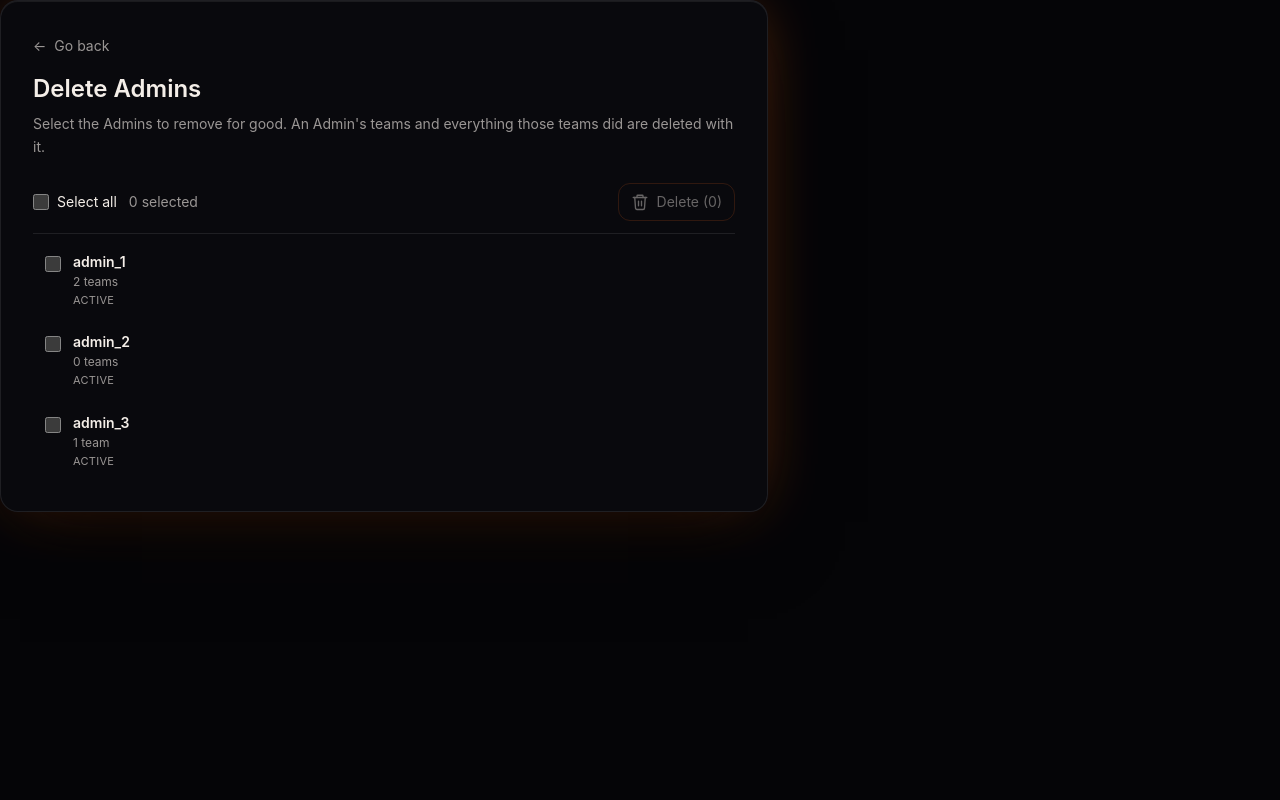
Test: <DeletionScreen kind='admins' /> › the trash button opens the confirmation with the exact wording (singular and plural) and sends nothing
Click the checkbox named "Select admin_1".
click(53, 264)  # box [45,256,61,272]
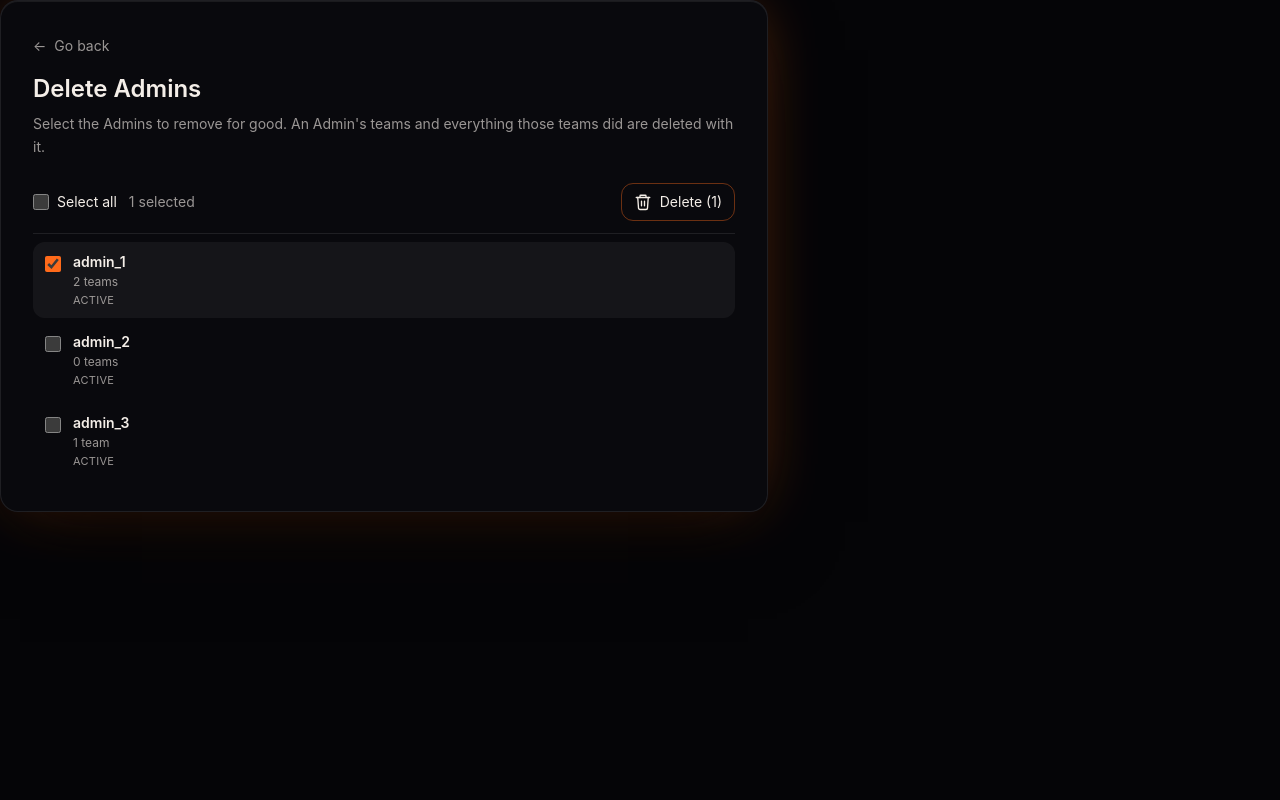
Click the button with aria-label "Delete selected".
click(678, 202)  # box [621,182,735,220]
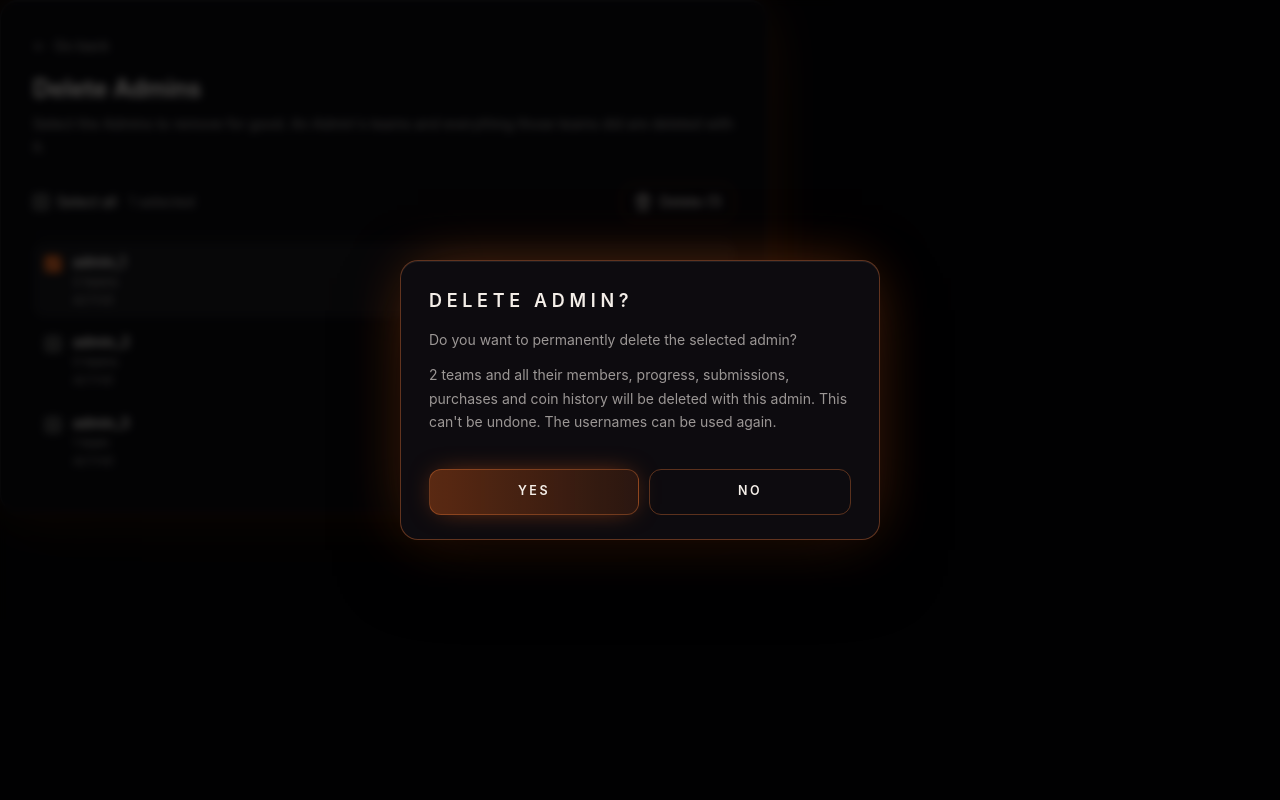
Check: the text "Do you want to permanently delete the selected admin?" is shown, box [429,328,851,351]
Check: the text "2 teams and all their members" is shown, box [429,366,847,430]
Check: the button "Yes" is shown, box [429,469,639,515]
Click the button "No".
click(750, 492)  # box [649,469,851,515]
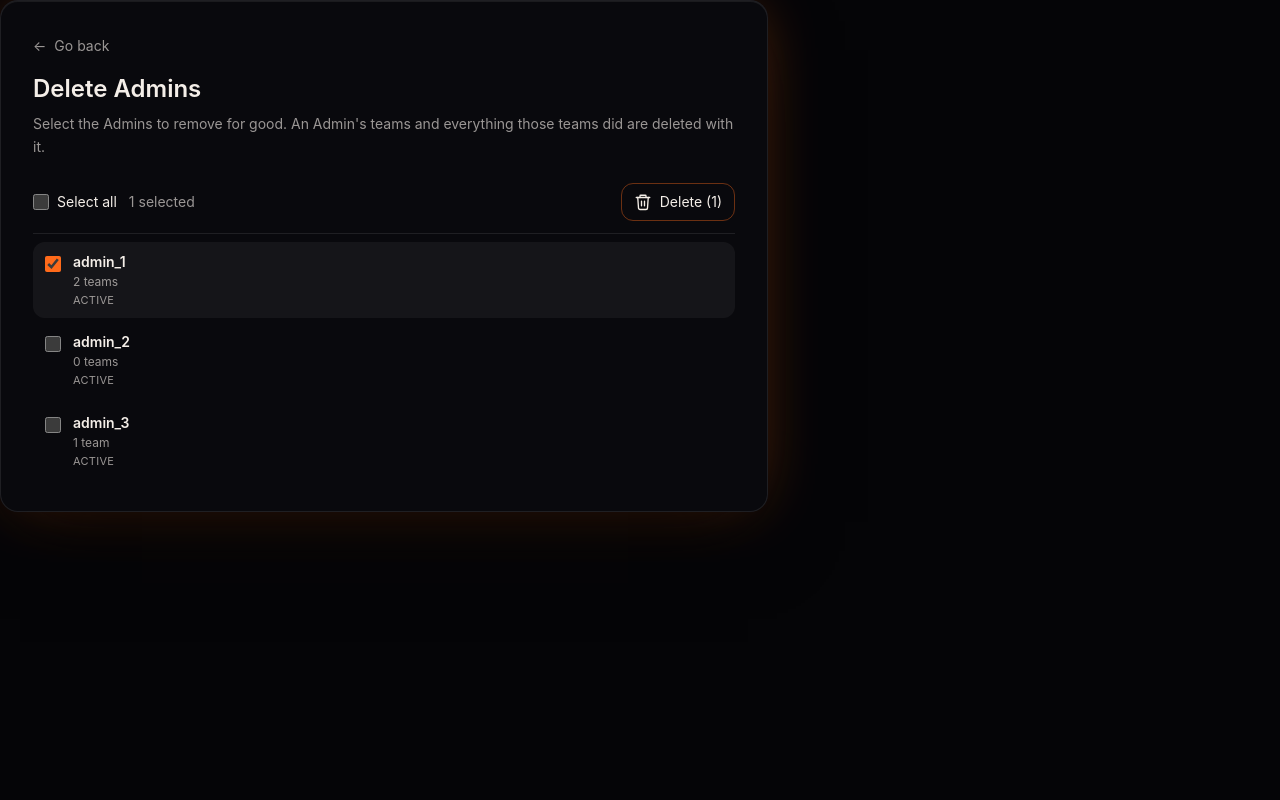
Click the checkbox named "Select admin_2".
click(53, 344)  # box [45,336,61,352]
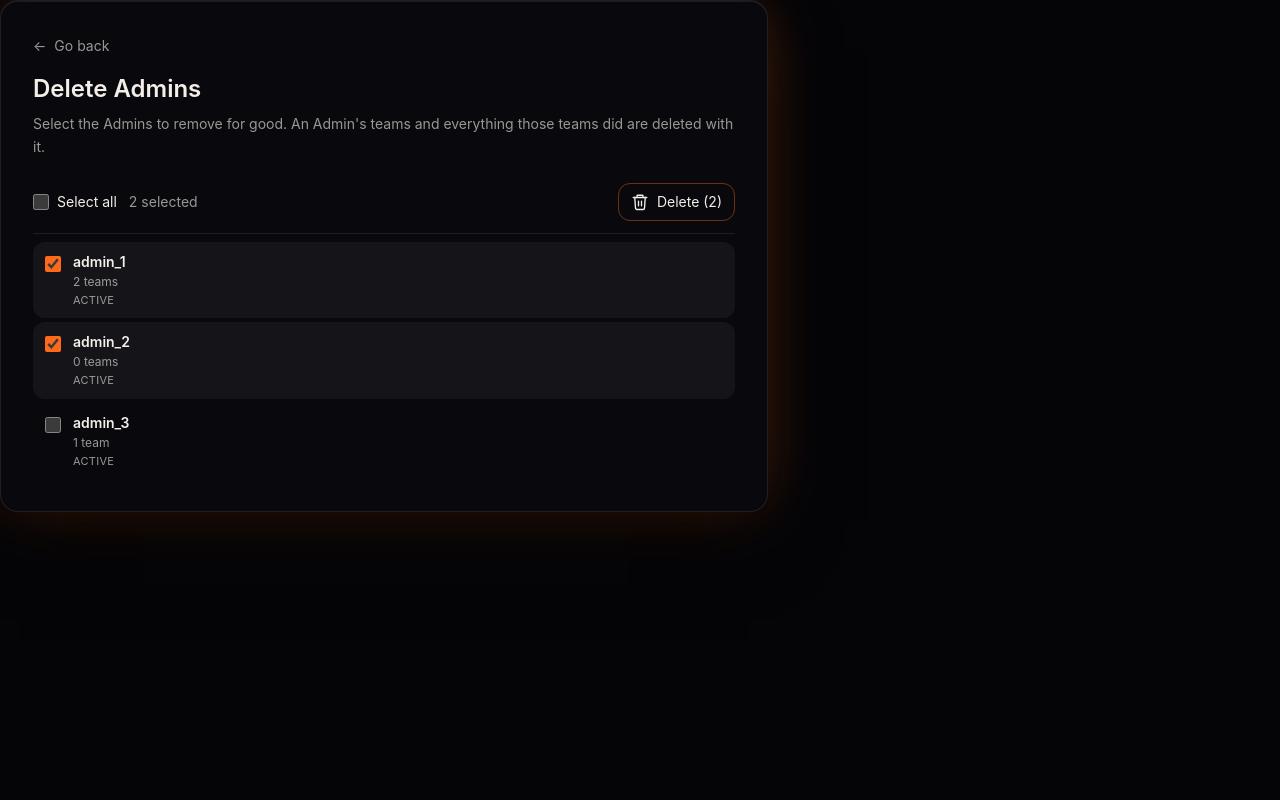
Click the button with aria-label "Delete selected".
click(676, 202)  # box [618,182,735,220]
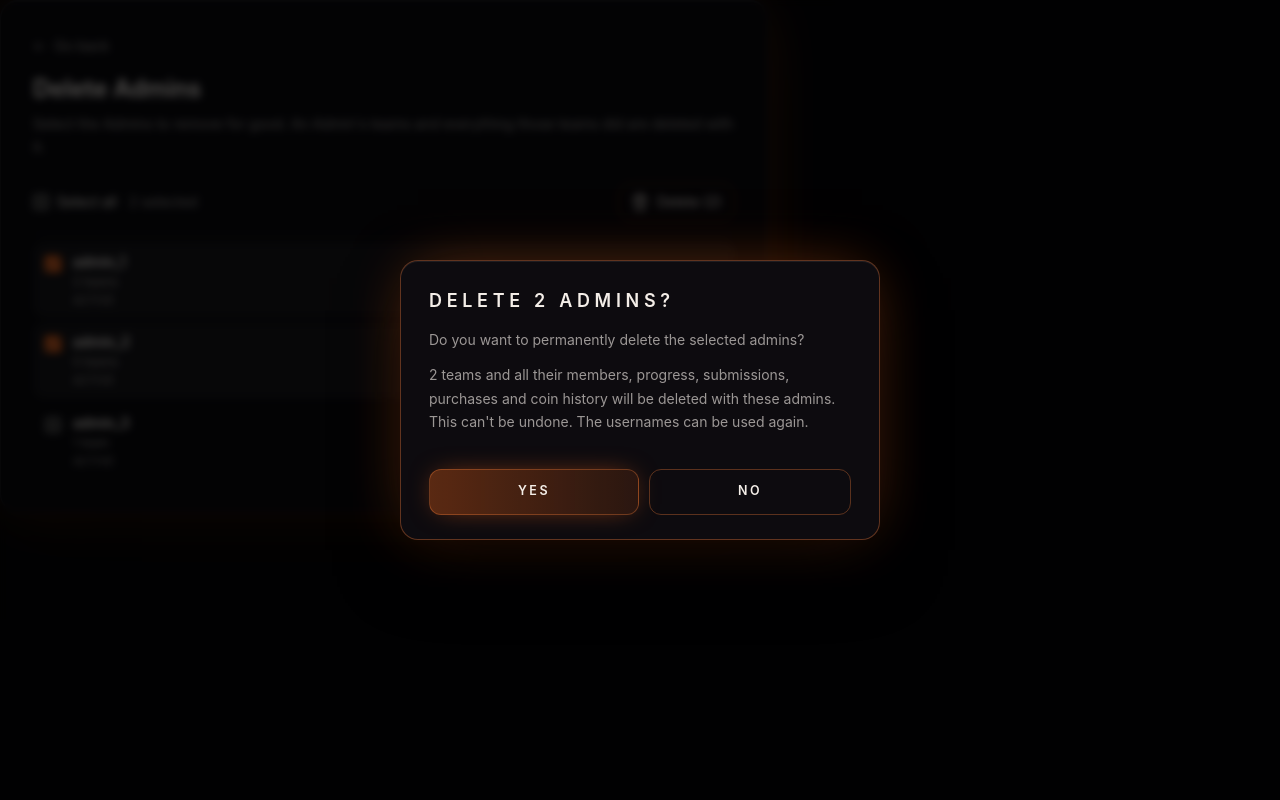
Check: the text "Do you want to permanently delete the selected admins?" is shown, box [429,328,851,351]
